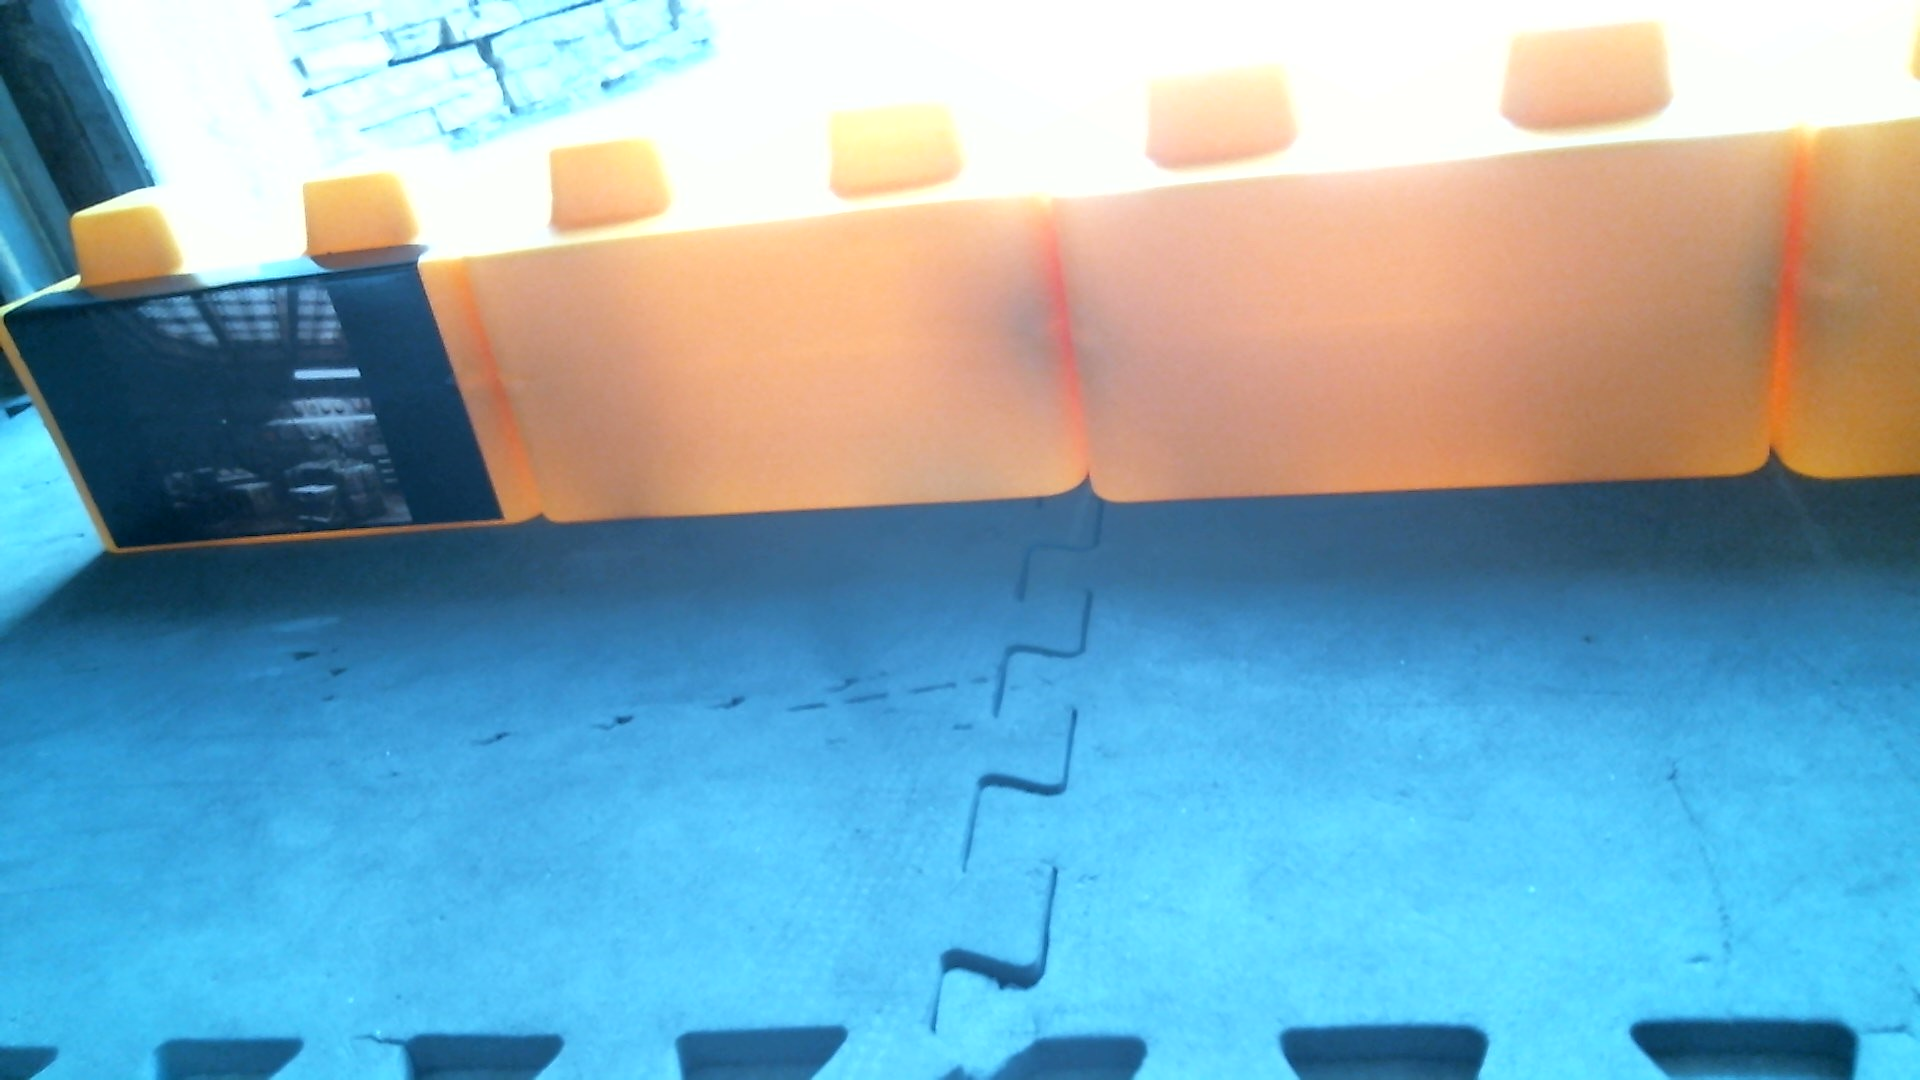left: (22, 17, 1920, 558)
